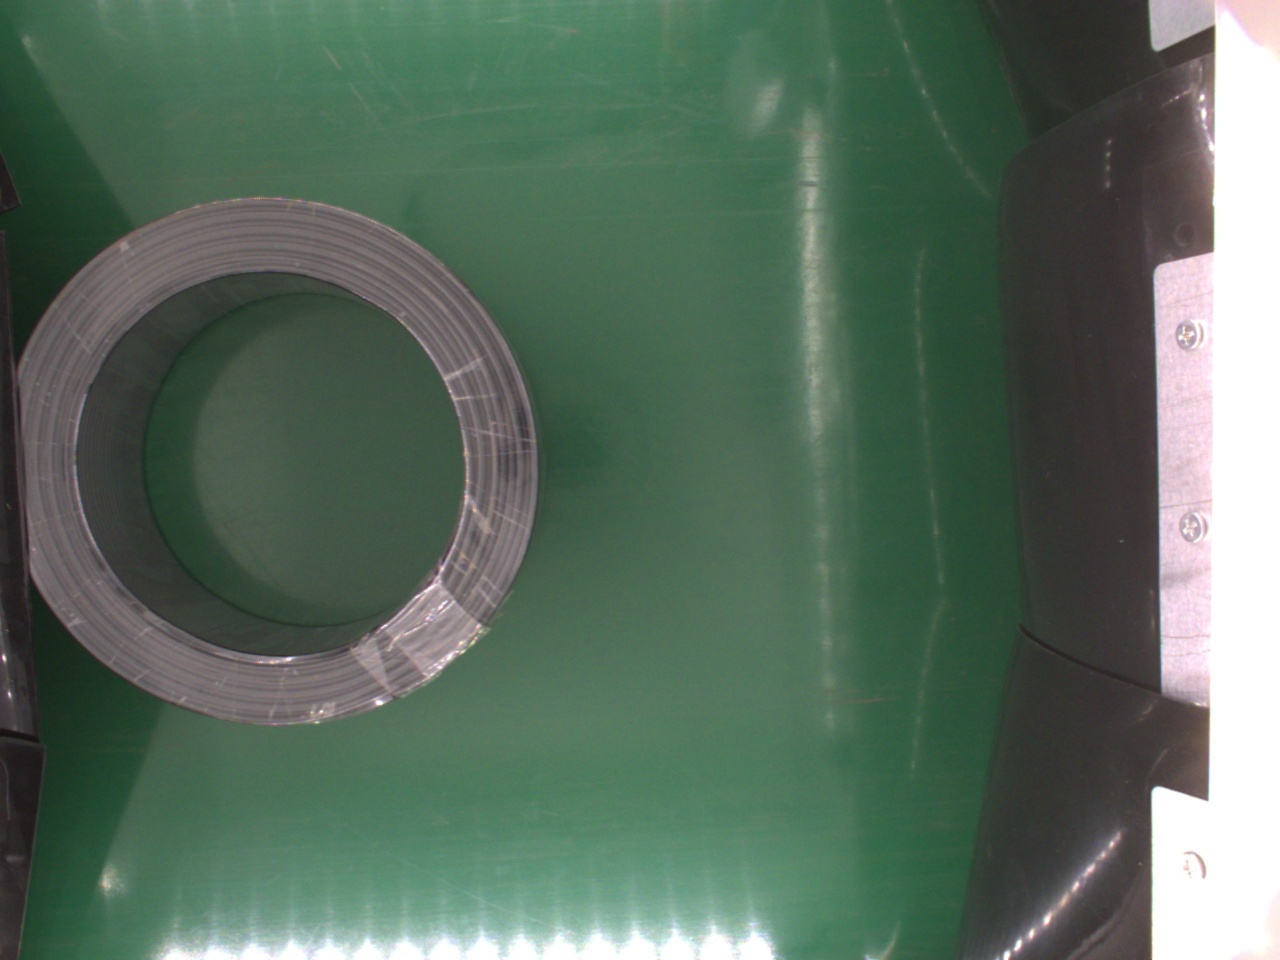black: (35, 195, 539, 724)
